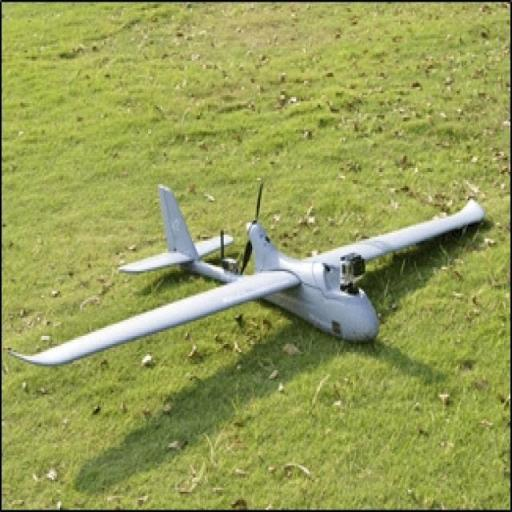uav: (35, 170, 498, 362)
